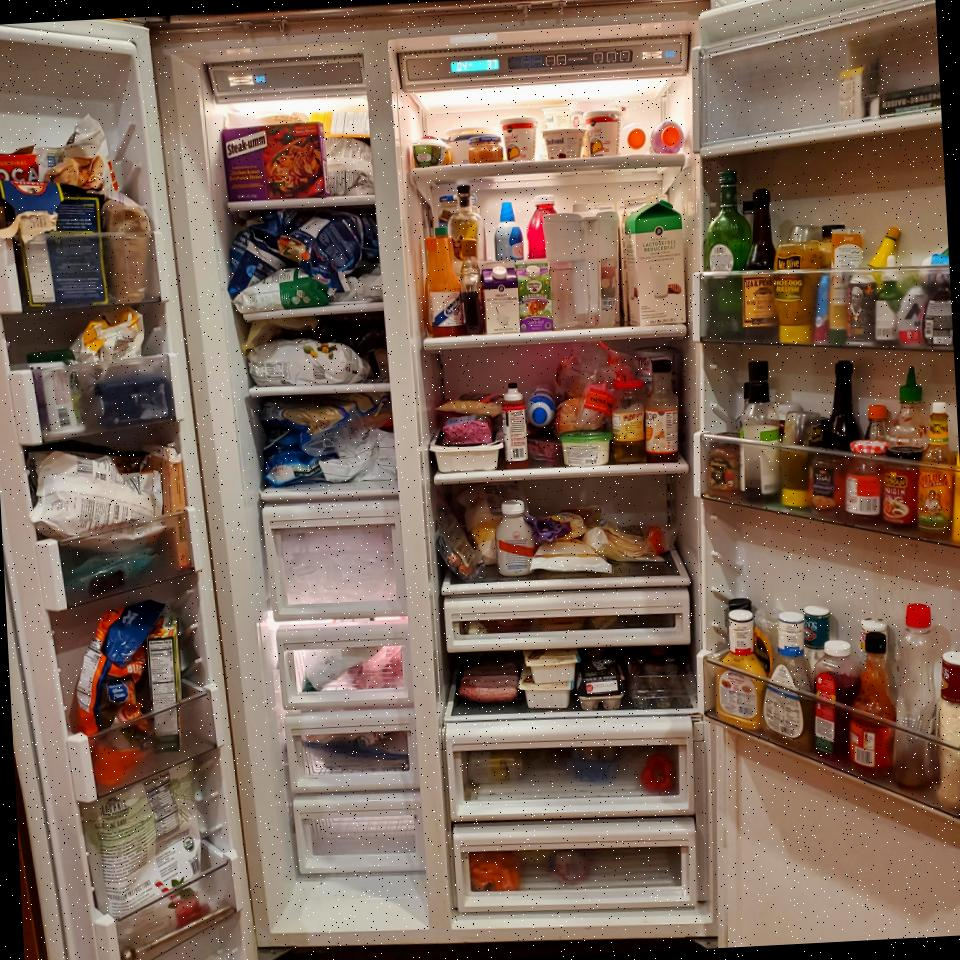Huevos: (574, 656, 627, 711)
Leche: (624, 192, 688, 328)
Zanahoria: (469, 850, 522, 894)
